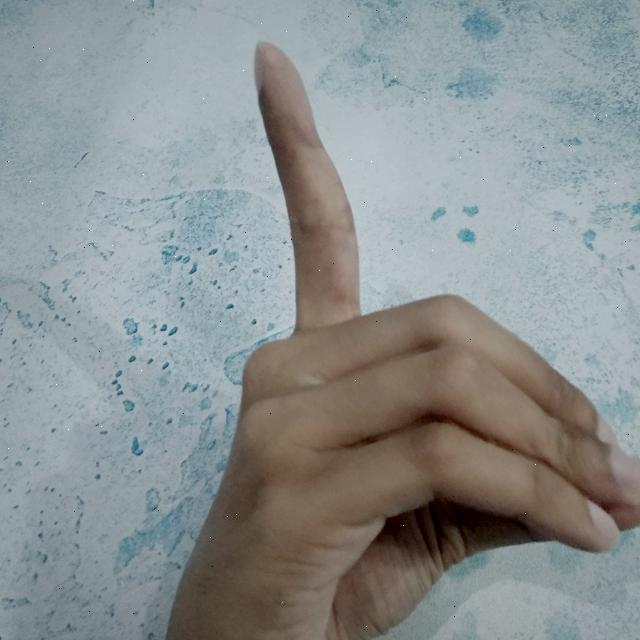D: (164, 37, 640, 640)
